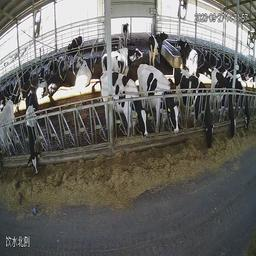cow: (138, 60, 178, 153), (98, 69, 148, 139), (175, 66, 216, 149), (23, 85, 45, 187), (212, 64, 238, 147), (99, 44, 144, 74), (146, 26, 171, 63), (176, 35, 198, 77), (239, 80, 253, 139), (72, 56, 93, 92), (48, 56, 65, 95), (34, 65, 48, 95), (66, 35, 83, 57), (119, 22, 131, 45)
